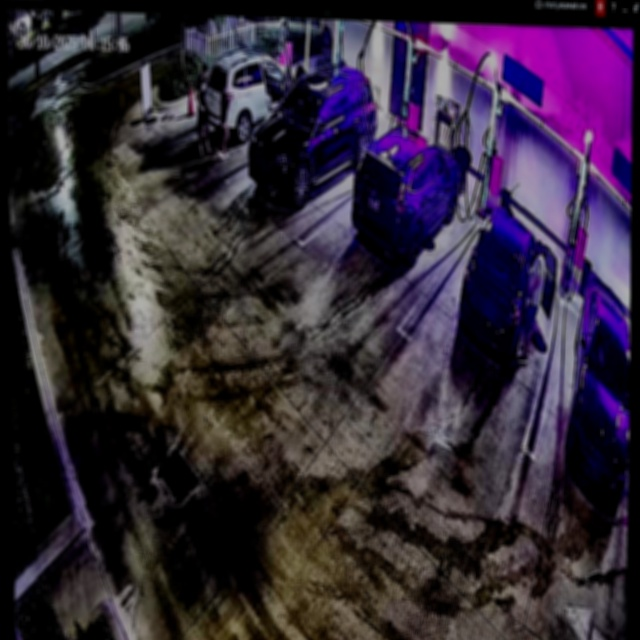Car: (248, 69, 375, 203), (354, 116, 459, 269), (461, 204, 557, 352)
